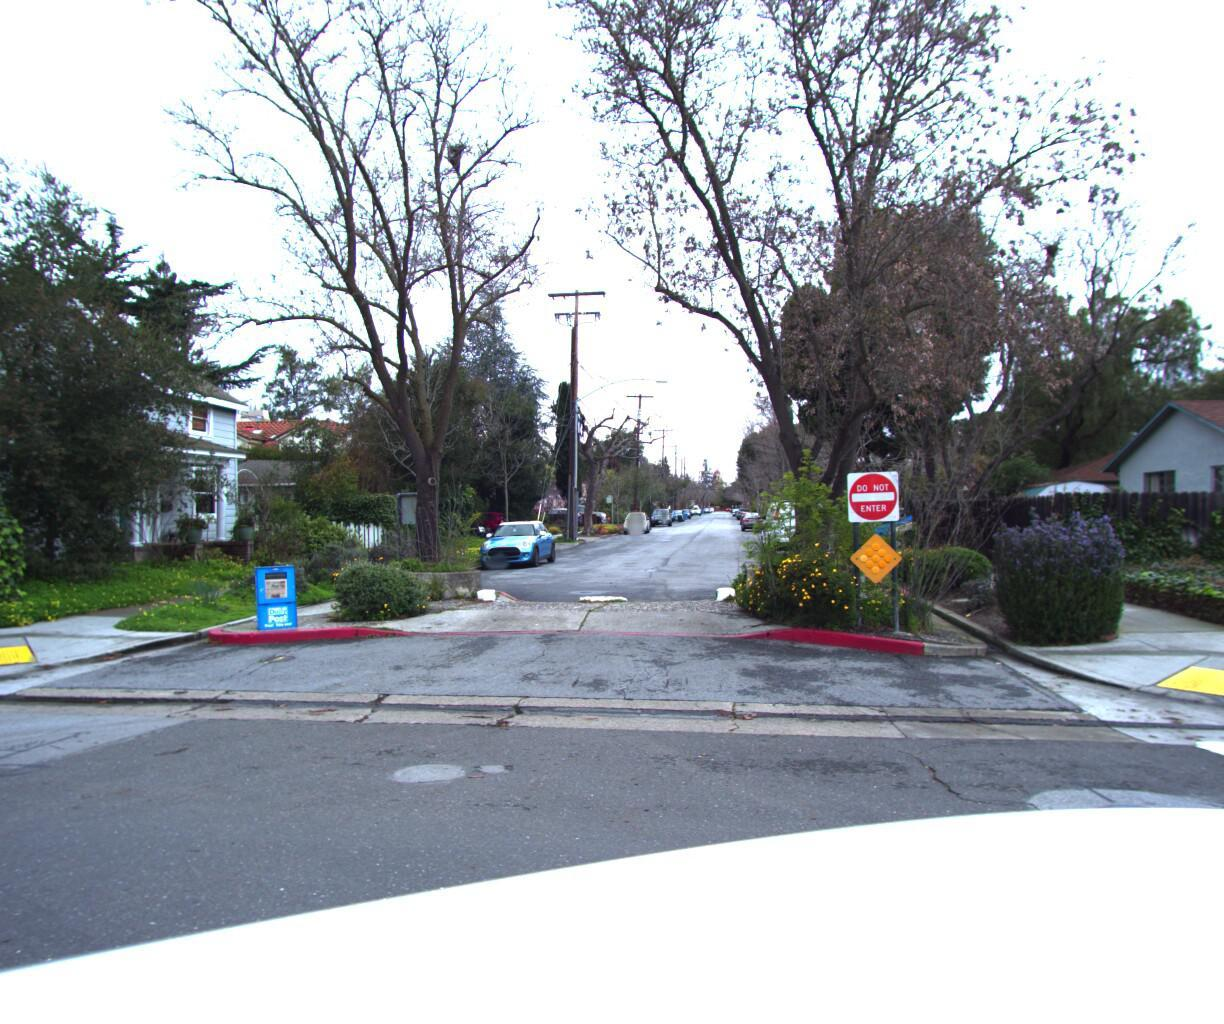car: (477, 523, 559, 578), (439, 514, 519, 547), (504, 516, 561, 540), (622, 517, 652, 539), (651, 513, 674, 531)
